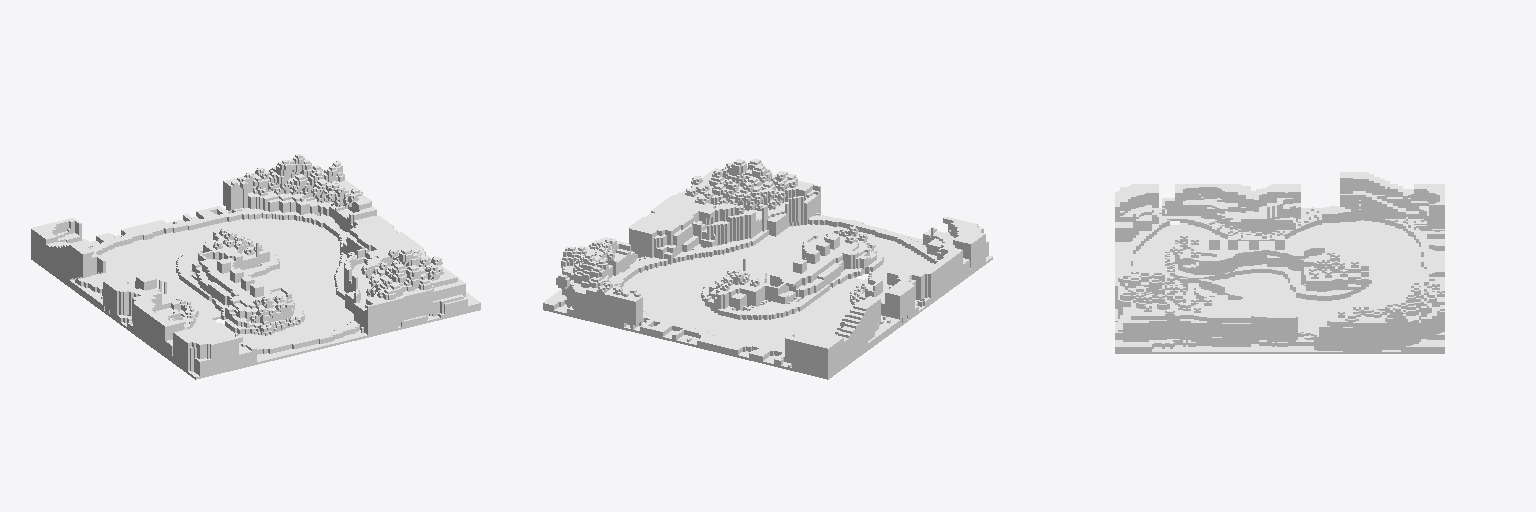
Rendered from night-city.obj.
The picture shows the model from 3 angles: view 1: azimuth 30°, elevation 25°; view 2: azimuth 150°, elevation 25°; view 3: azimuth 270°, elevation 25°; orthographic projection.
Parts seen in each view (by area): view 1: night-city; view 2: night-city; view 3: night-city.
Boxes of the visible parts, box(x1,y1,x2,y2) form: night-city: box(31, 154, 480, 379); night-city: box(543, 158, 992, 379); night-city: box(1115, 172, 1444, 353).
Size of the model in its own units: 126 by 24 by 126.